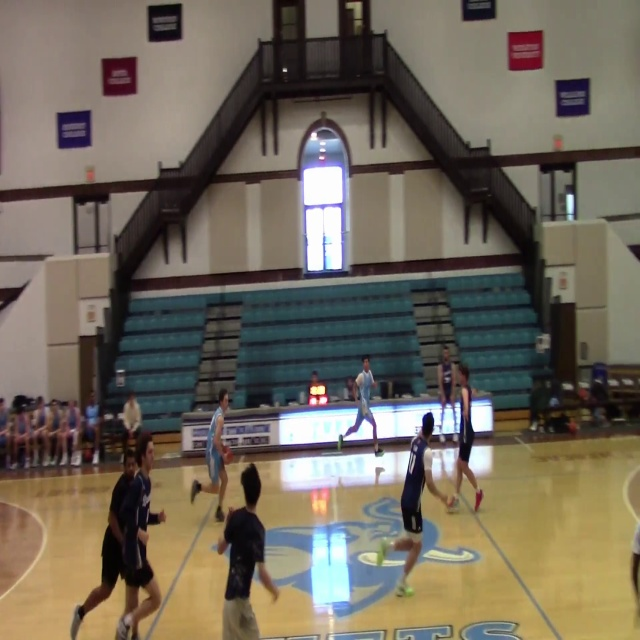Basketball: (222, 448, 234, 464)
